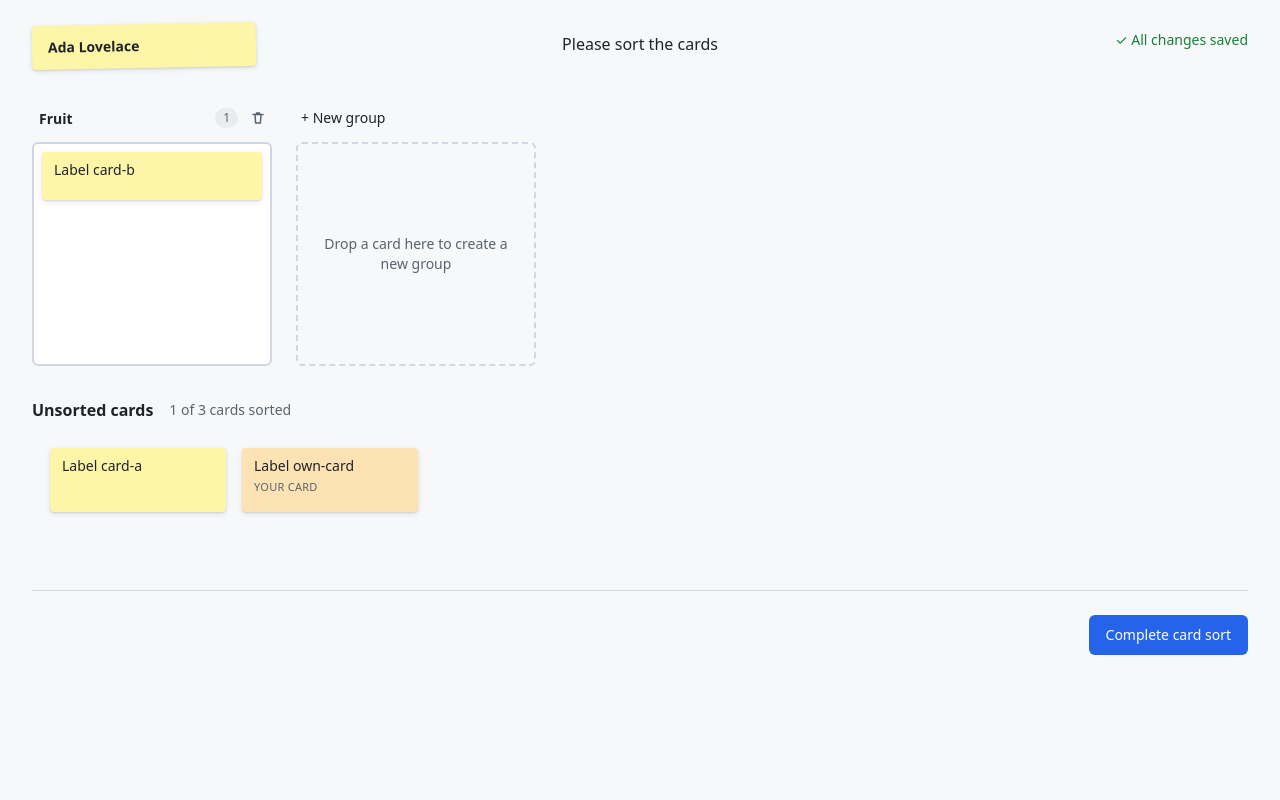
Board › PERM-09: shows a card description on hover when enabled
Hover over the button "Label card-a" at point(138, 480), box [50,448,226,512]
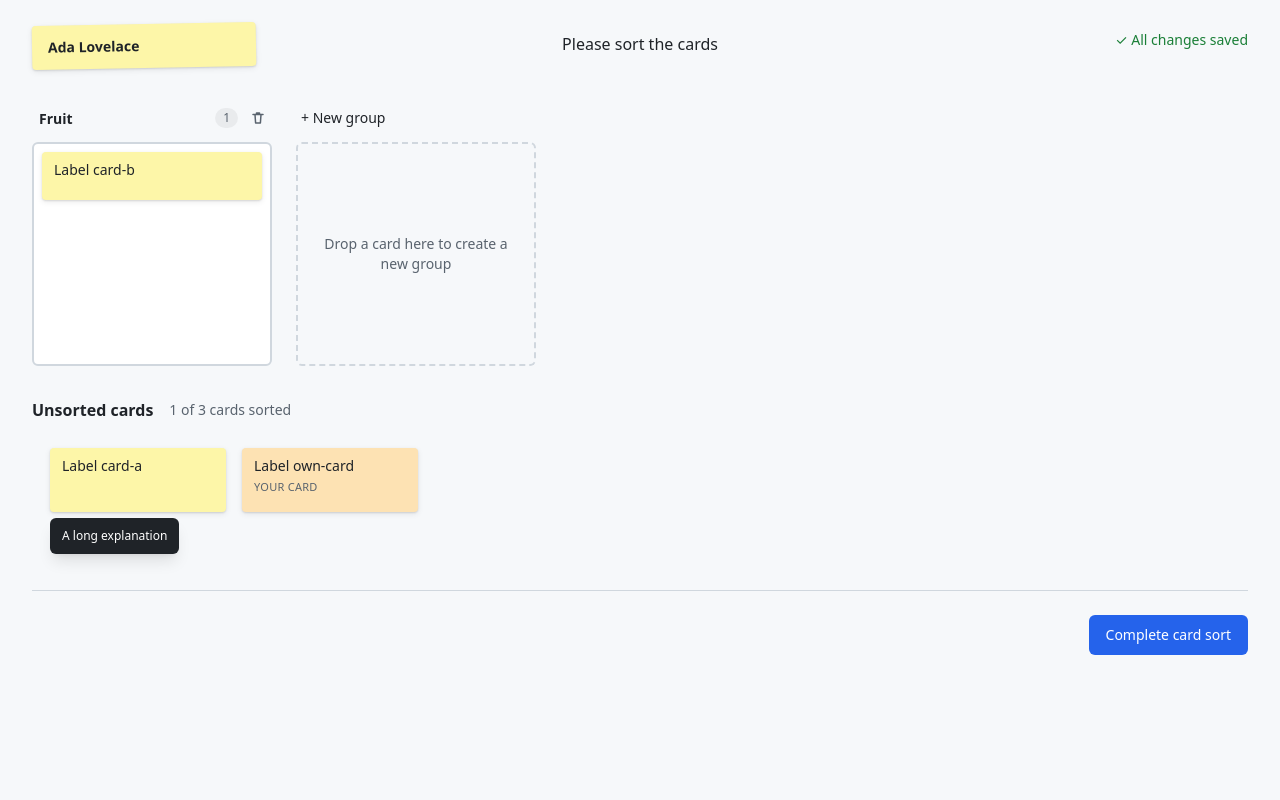
Result: the tooltip reads "A long explanation" at [62,527,167,544]
